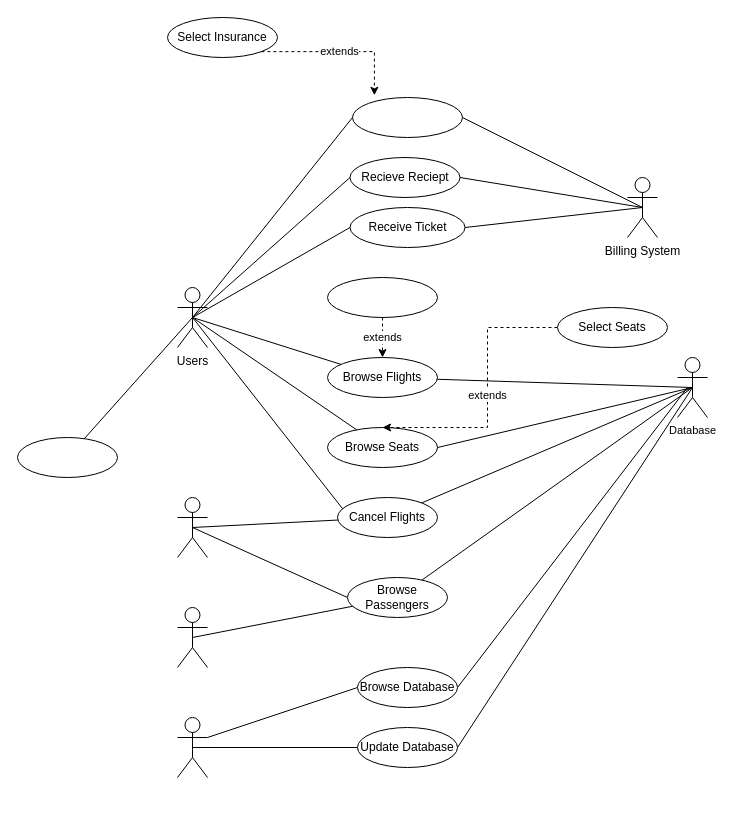
The diagram is 733 pixels wide and 816 high, and some of its shapes have lost their labels. Each missing label, with the centre of its shape:
"Admin" belongs at pixel 192 747.
"Airline Agents" belongs at pixel 192 527.
"Logiin" belongs at pixel 67 457.
"Make Payment" belongs at pixel 407 117.
"Select Flights" belongs at pixel 382 297.
"Tourism Agents" belongs at pixel 192 637.
